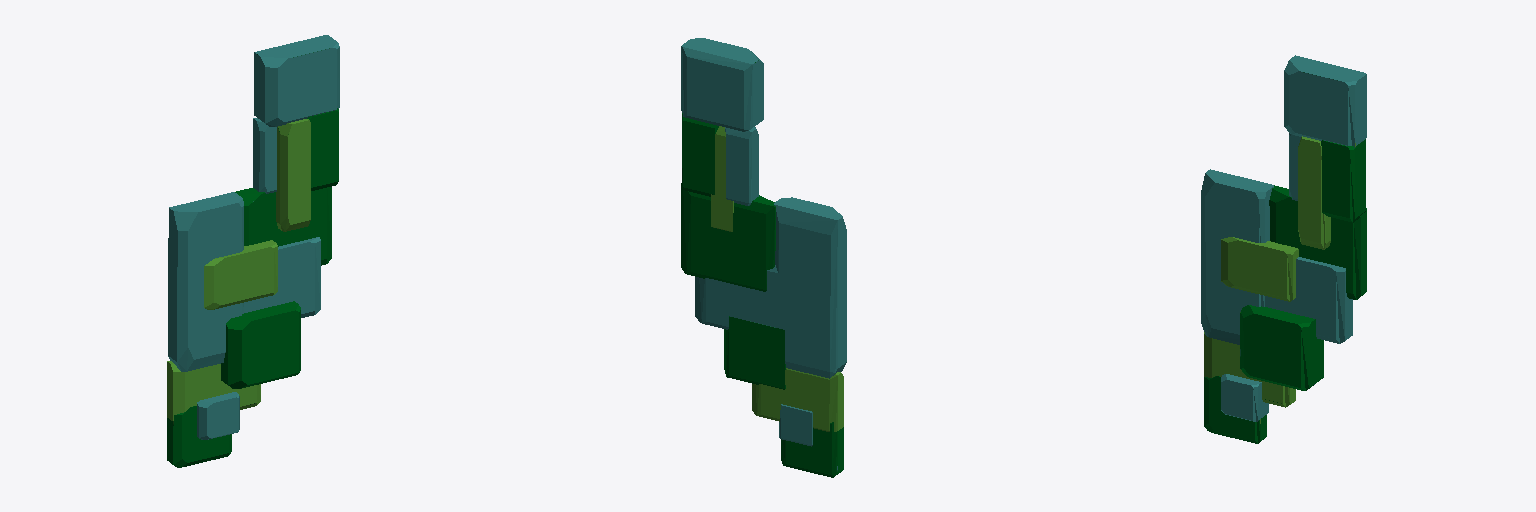
3 views of the same model, side by side, from view 1: azimuth 30°, elevation 25°; view 2: azimuth 150°, elevation 25°; view 3: azimuth 330°, elevation 25° (orthographic).
Visible parts, largest first — view 1: saliente.010_Cube.010; view 2: saliente.010_Cube.010; view 3: saliente.010_Cube.010.
Boxes of the visible parts, x1,y1,x2,y2 form: saliente.010_Cube.010: [167, 35, 339, 467]; saliente.010_Cube.010: [681, 38, 846, 477]; saliente.010_Cube.010: [1201, 55, 1366, 443].
Size of the model in its own units: 135 by 317 by 32.59.
1 materials, 1 textured.